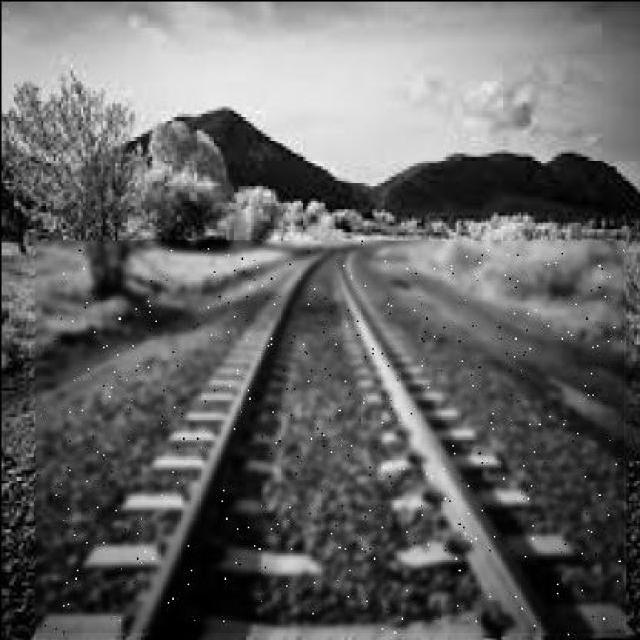rail: (37, 242, 625, 634)
